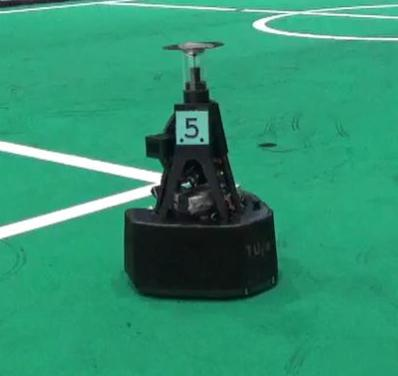robot: (118, 40, 283, 303)
